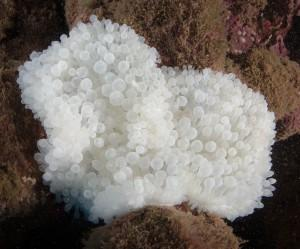bleached_corals: (16, 14, 276, 222)
